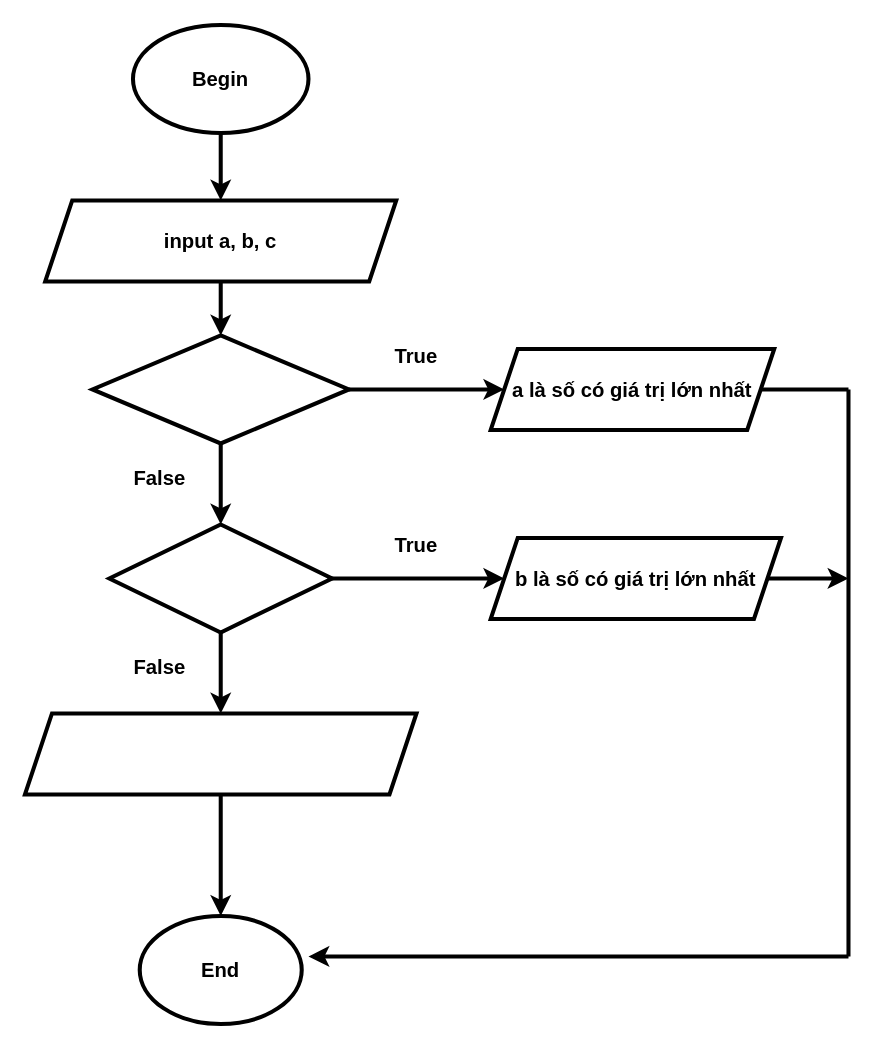
Image size: 884x1049. Some labels were removed from this diagram. The shapes that lost their labels are listed below. From the top down, each one's centre as x and y in pixels, then its label:
At (220,389): "a > b, c".
At (220,578): "b > c".
At (220,753): "c là số có giá trị lớn nhất".
